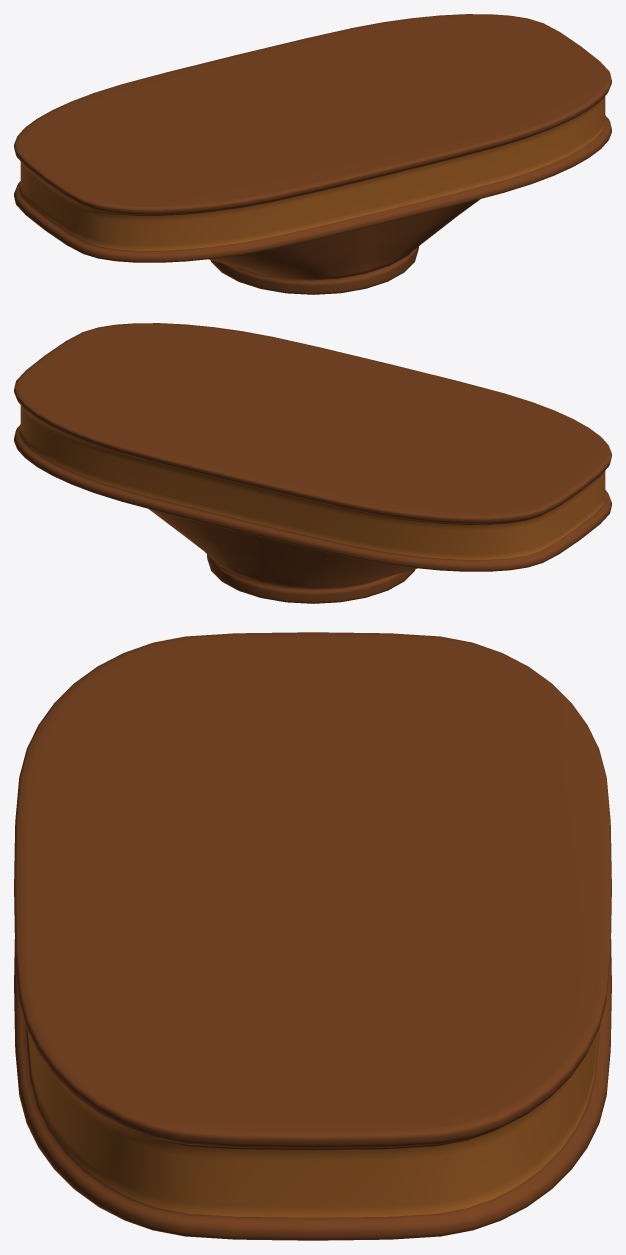
File: SM_SM_CoffeeTable_01.fbx
The picture shows the model from 3 angles, top to bottom: view 1: azimuth 30°, elevation 25°; view 2: azimuth 150°, elevation 25°; view 3: azimuth 270°, elevation 25°; orthographic projection. The views are drawn at different scales.
Parts seen in each view (by area): view 1: SM_CoffeeTable_01; view 2: SM_CoffeeTable_01; view 3: SM_CoffeeTable_01.
Boxes of the visible parts, <box> form: SM_CoffeeTable_01: <box>14,14,611,294</box>; SM_CoffeeTable_01: <box>14,323,611,603</box>; SM_CoffeeTable_01: <box>14,632,611,1240</box>.
Bounding box in the file's own units: 200 × 50 × 99.86.
